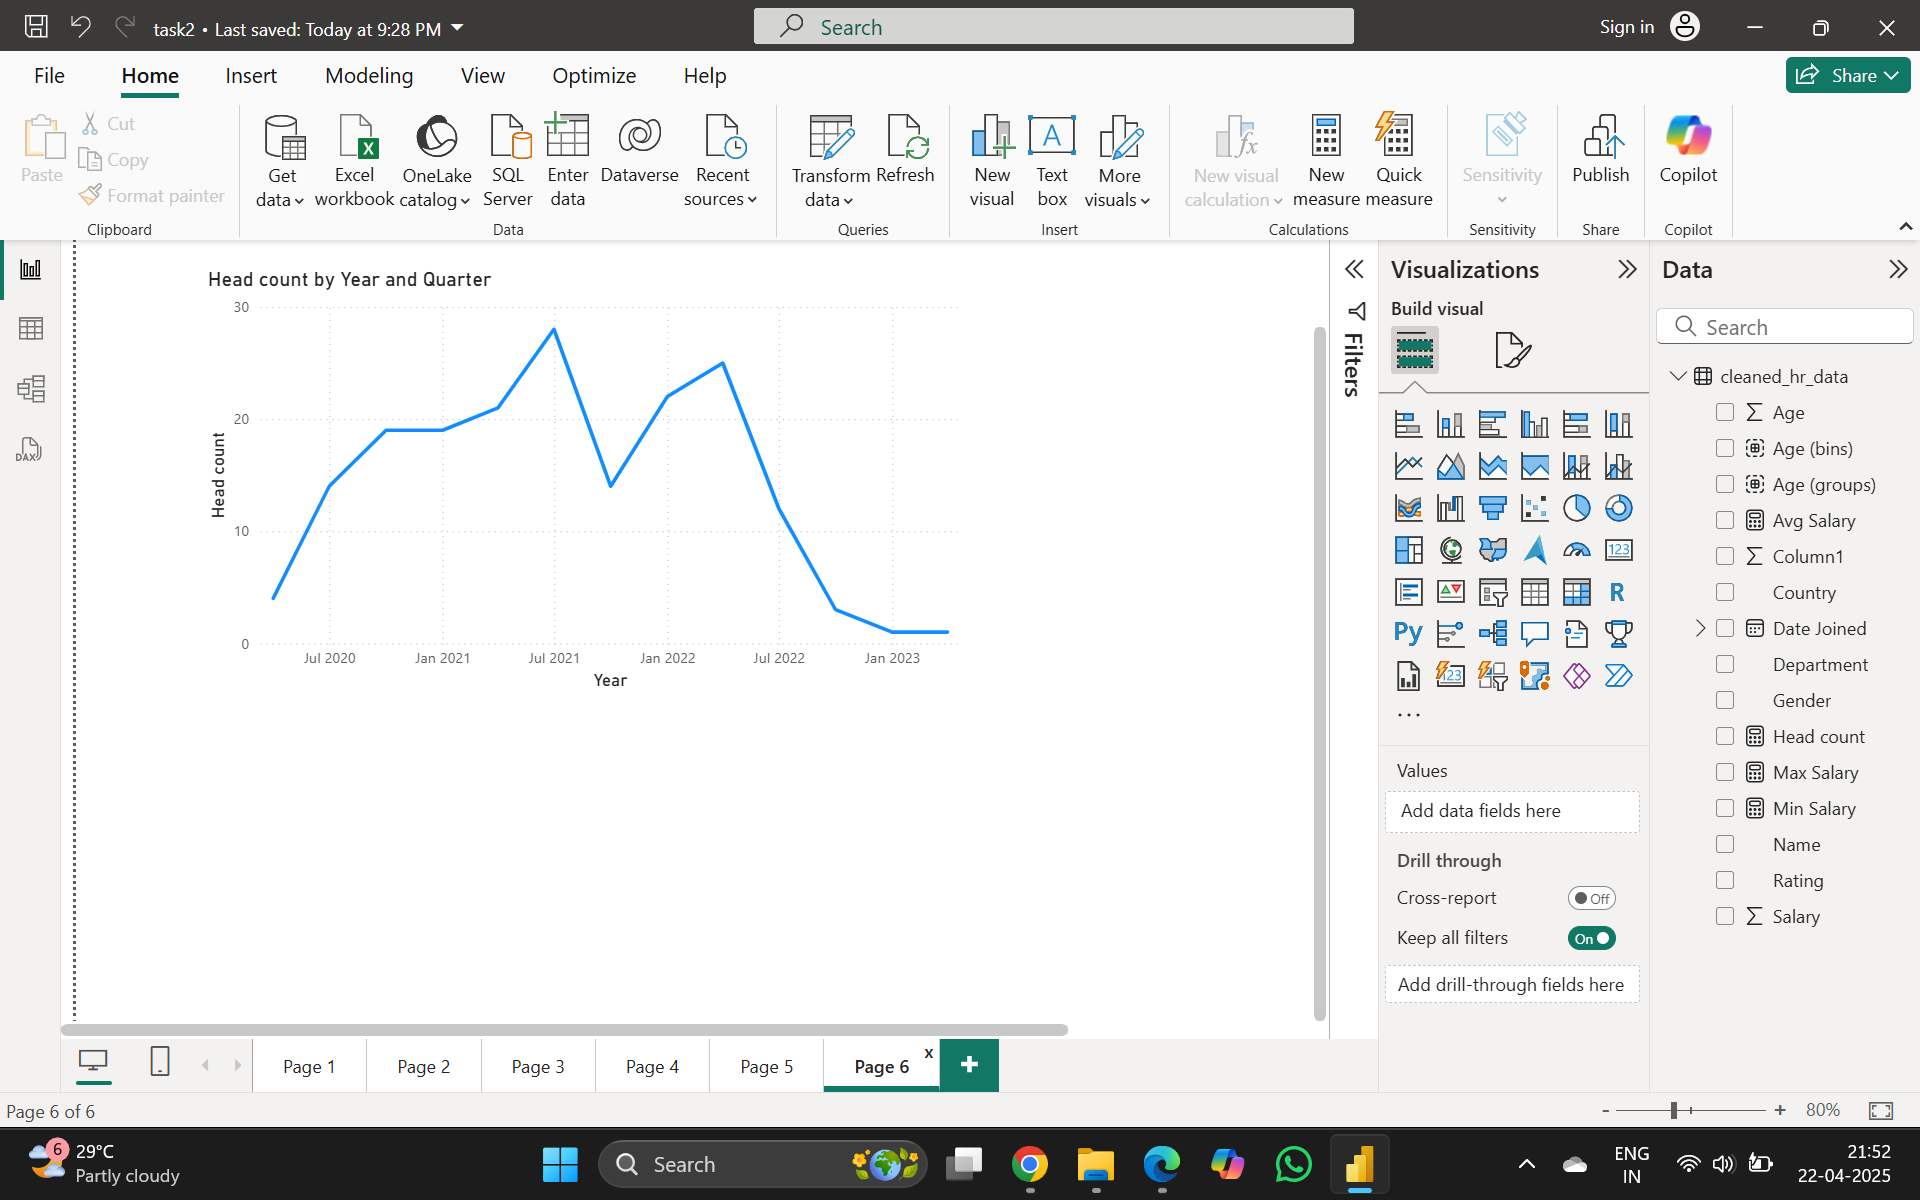

The dashboard page shown, as its layout file describes it:
{"tool":"powerbi","page":{"name":"Page 6","canvas":[1280,720],"ordinal":5},"visuals":[{"type":"lineChart","fields":{"Category":["cleaned_hr_data.Date Joined.Variation.Date Hierarchy.Year","cleaned_hr_data.Date Joined.Variation.Date Hierarchy.Quarter","cleaned_hr_data.Date Joined.Variation.Date Hierarchy.Month","cleaned_hr_data.Date Joined.Variation.Date Hierarchy.Day"],"Y":["cleaned_hr_data.Head count"]},"box":[105,91.7,650,356.7],"z":0}]}

Visuals, with their boxes on the page's 1280x720 design canvas (x1, y1, x2, y2). These are canvas units, not pixel positions in the 1920x1200 screenshot, which may show the page scaled, cropped or inside an application window:
lineChart - cleaned_hr_data.Date Joined.Variation.Date Hierarchy.Year x cleaned_hr_data.Date Joined.Variation.Date Hierarchy.Quarter: {"x1": 105, "y1": 92, "x2": 755, "y2": 448}
